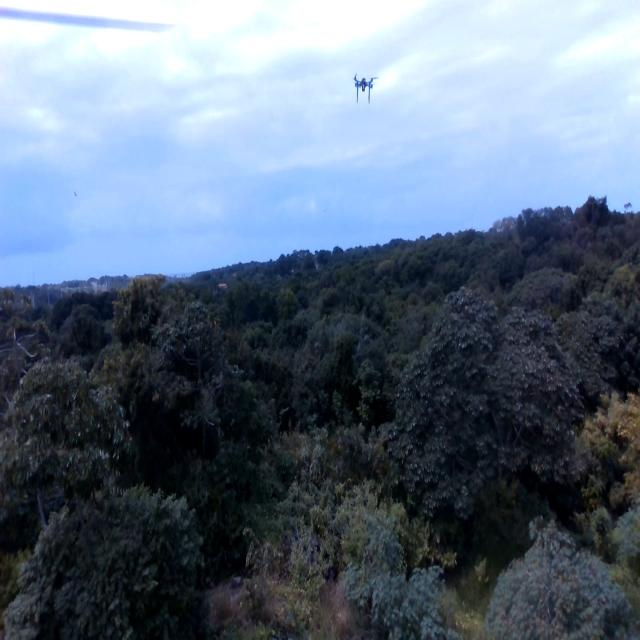-uav-: (346, 60, 384, 118)
